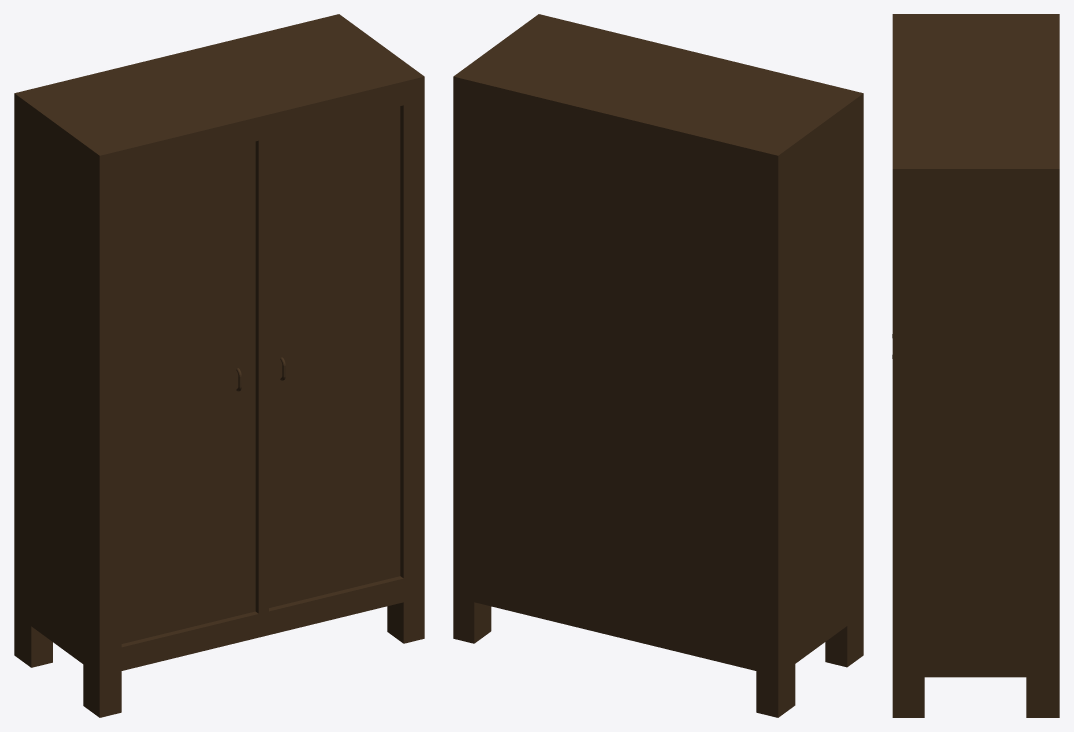
The model's file is Armario.fbx.
The picture shows the model from 3 angles, left to right: view 1: azimuth 30°, elevation 25°; view 2: azimuth 150°, elevation 25°; view 3: azimuth 270°, elevation 25°; orthographic projection. The views are drawn at different scales.
Visible parts, largest first — view 1: Armario; view 2: Armario; view 3: Armario.
Part boxes in pixels (x1,y1,x2,y2): Armario: (14,14,424,717); Armario: (453,14,863,717); Armario: (892,14,1059,717).
Size of the model in its own units: 475 by 785 by 216.
